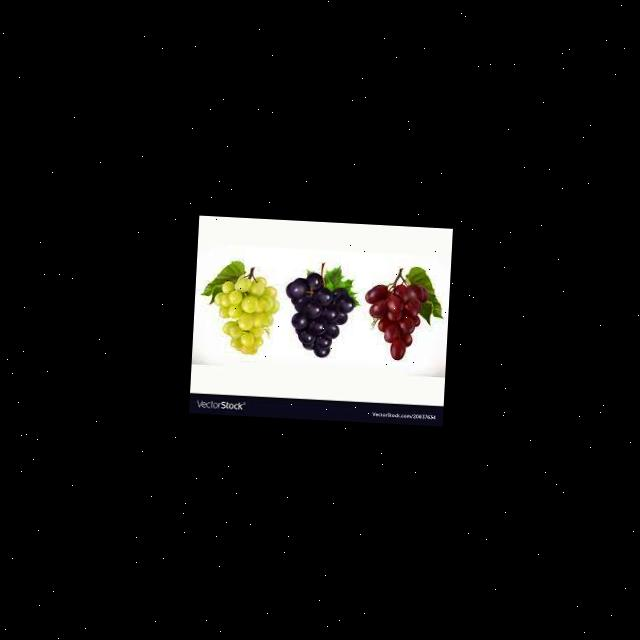grape: (281, 260, 357, 358), (360, 264, 429, 360), (209, 264, 280, 354)
